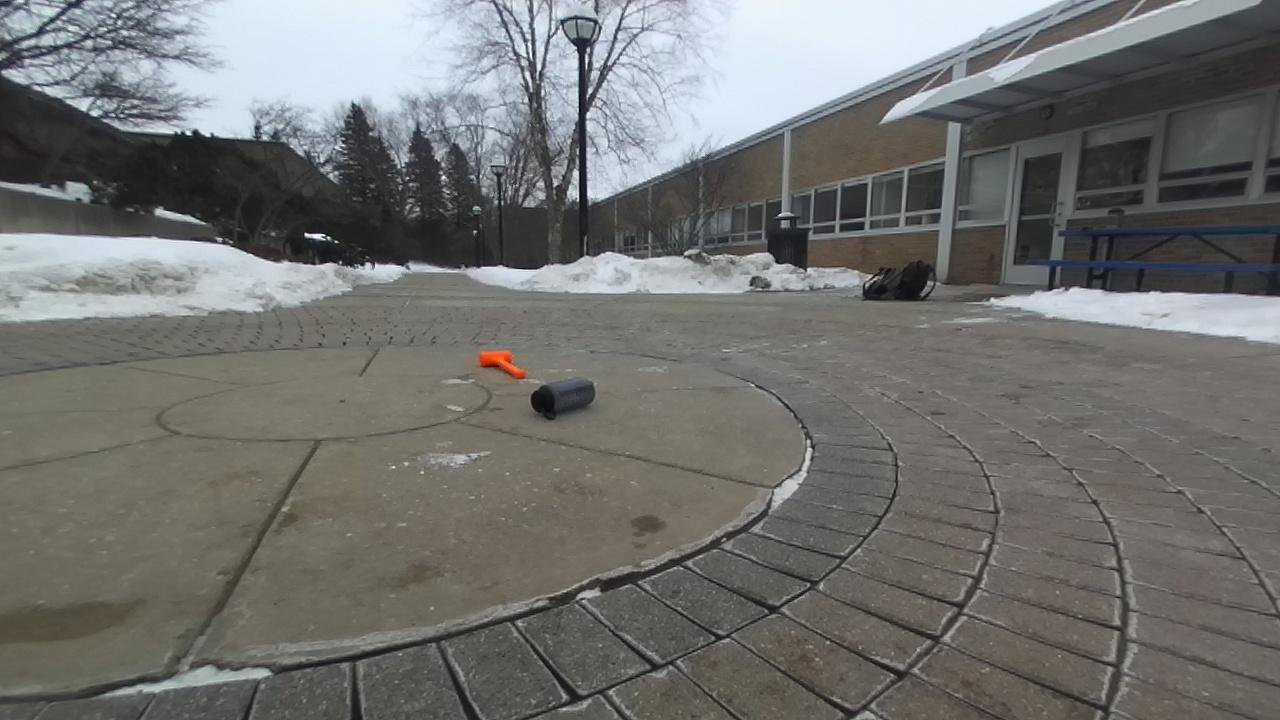bottle: (532, 378, 595, 418)
mallet: (481, 351, 525, 378)
